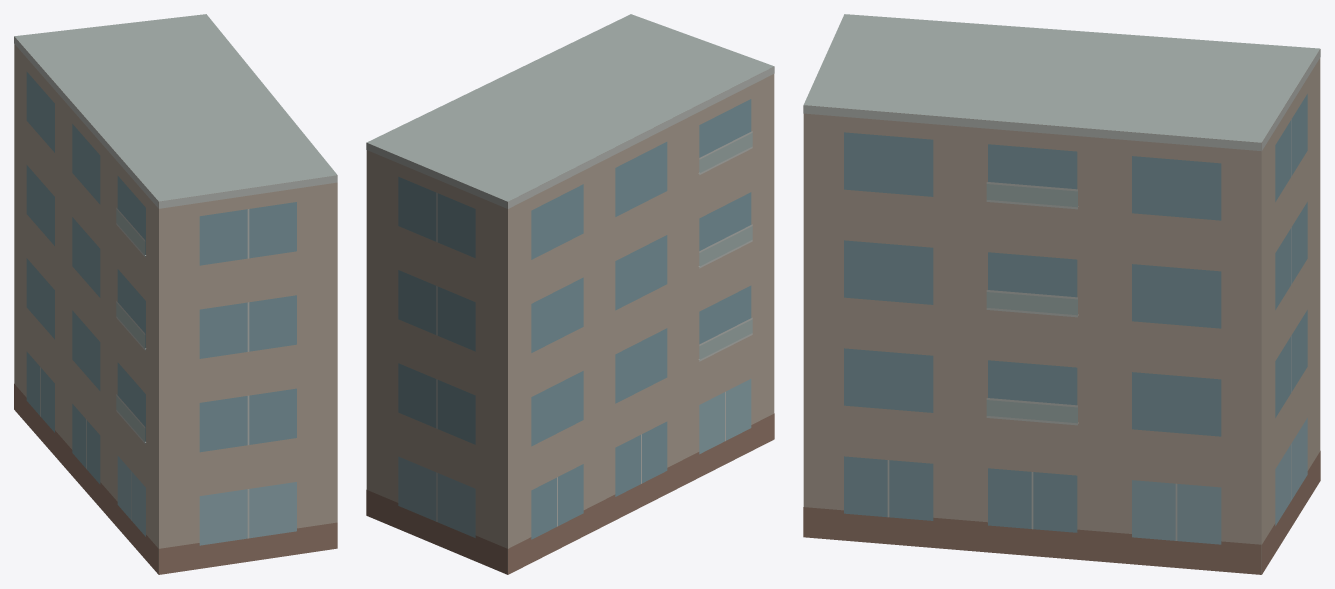
File: survey-upis-32977474.glb
3 renders of one model, left to right at view 1: azimuth 30°, elevation 25°; view 2: azimuth 150°, elevation 25°; view 3: azimuth 270°, elevation 25°, orthographic. The views are drawn at different scales.
Visible parts, largest first — view 1: survey-upis-32977474.tmp; view 2: survey-upis-32977474.tmp; view 3: survey-upis-32977474.tmp.
Boxes of the visible parts, x1,y1,x2,y2 form: survey-upis-32977474.tmp: (14, 14, 337, 574); survey-upis-32977474.tmp: (366, 14, 774, 574); survey-upis-32977474.tmp: (803, 14, 1320, 574).
Size of the model in its own units: 8 by 12.5 by 13.57.
